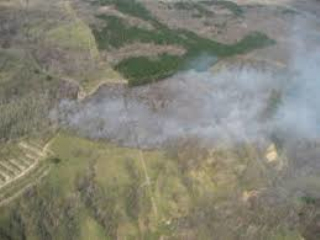smoke: (50, 82, 241, 147)
